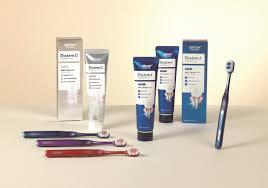toothpaste: (80, 48, 114, 130), (130, 53, 157, 141), (157, 42, 177, 127)
